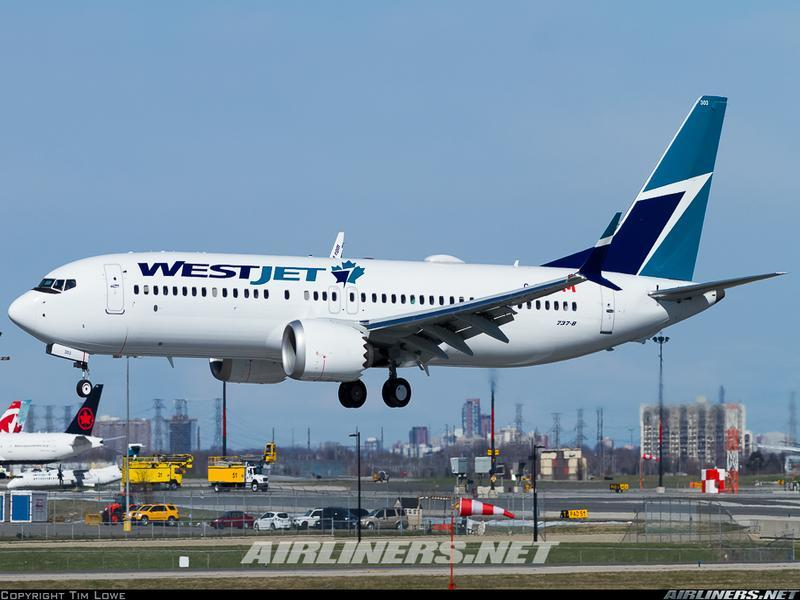737-MAX: (8, 91, 773, 412)
